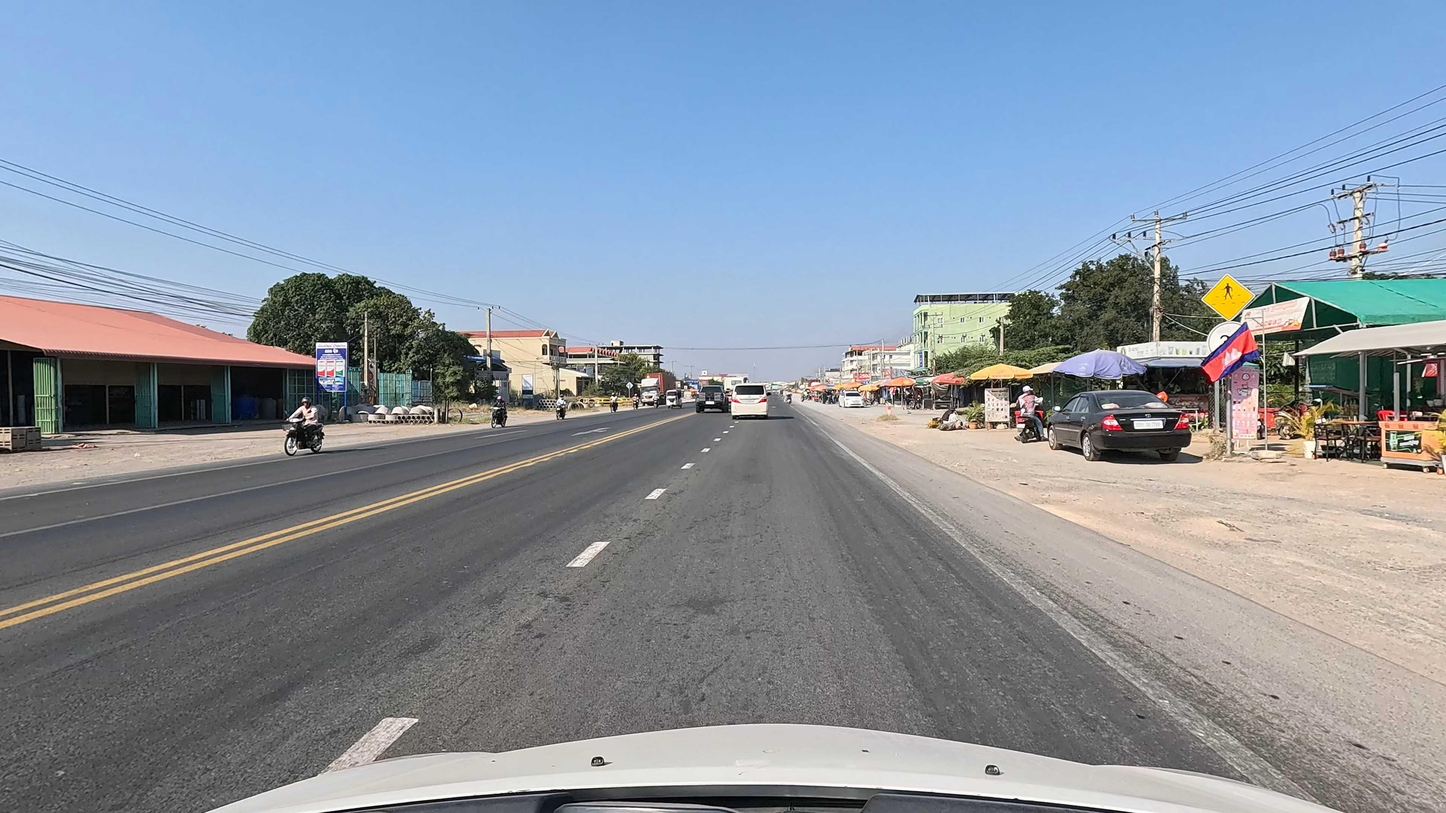pedestrian_crossing: (1201, 274, 1255, 322)
